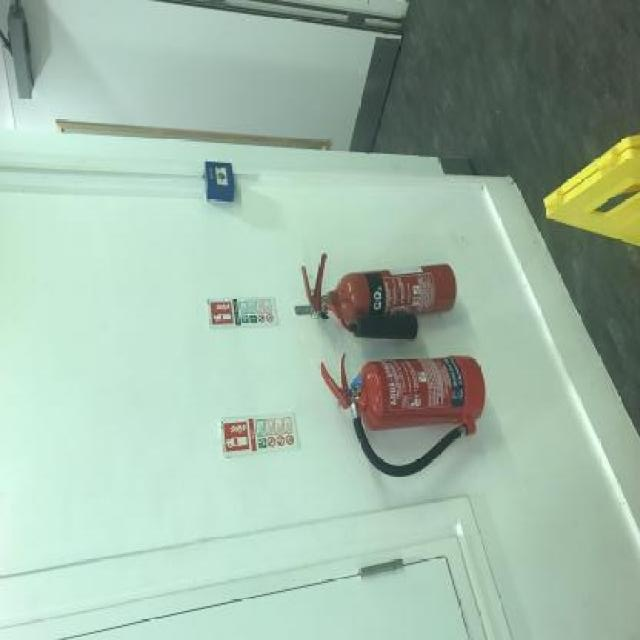fire extinguisher: (321, 353, 487, 479), (302, 257, 458, 338)
